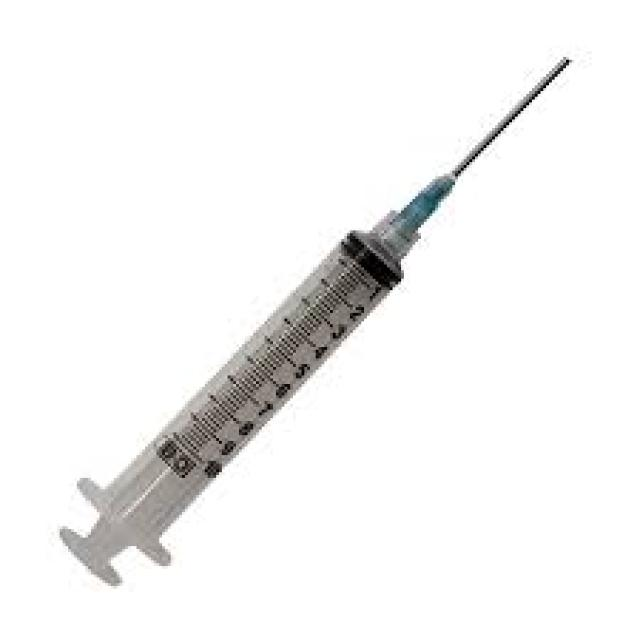syringe: (57, 51, 572, 586)
